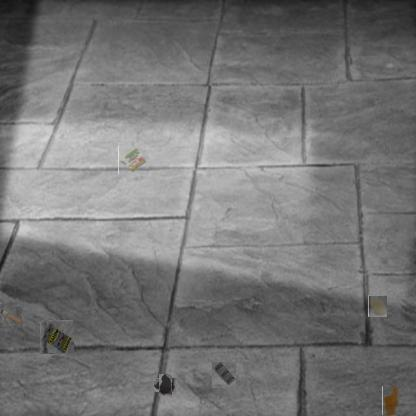dirty: (41, 320, 74, 354), (118, 146, 149, 174), (212, 362, 236, 388), (0, 305, 20, 327), (368, 295, 387, 317)
liquid: (382, 386, 399, 416), (156, 376, 174, 394)
